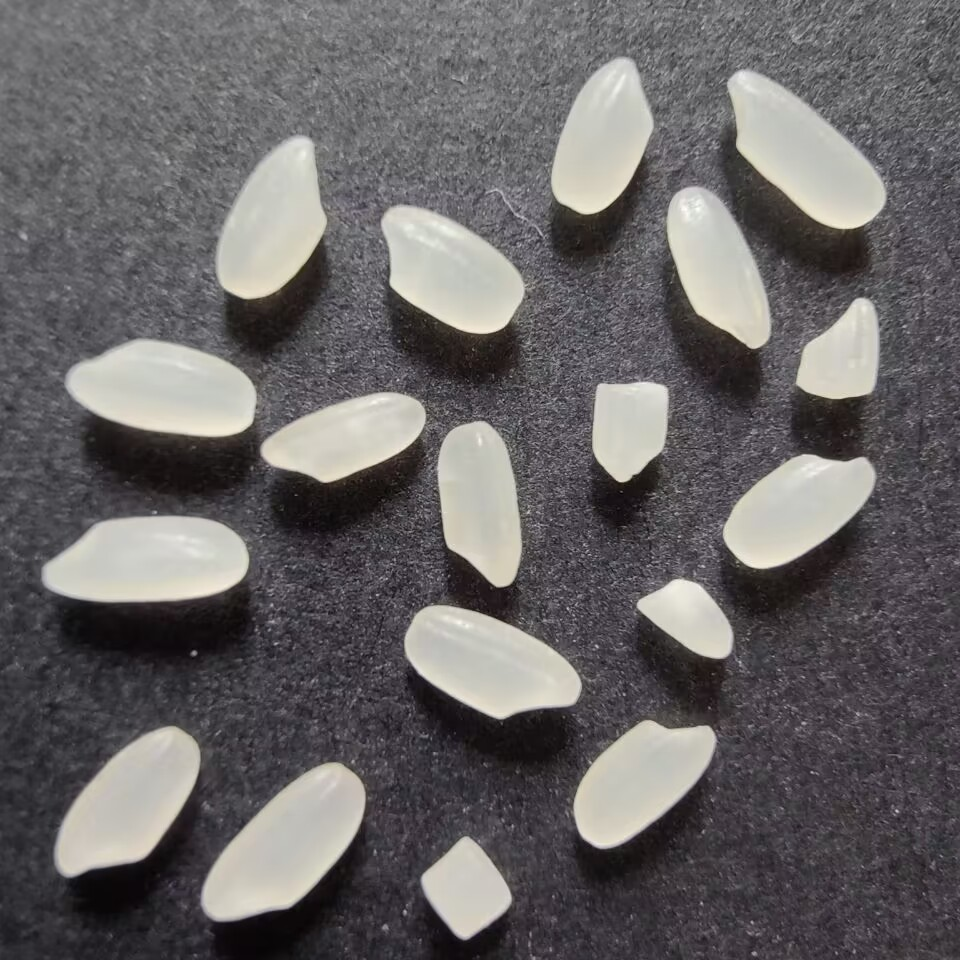broken: (412, 833, 517, 941), (786, 293, 886, 404), (587, 370, 674, 489), (630, 574, 739, 668)
rice: (198, 755, 372, 931), (720, 60, 890, 233), (44, 722, 205, 885), (206, 127, 336, 304), (371, 200, 535, 339), (57, 331, 262, 442), (400, 600, 584, 723), (32, 509, 254, 609), (566, 716, 720, 854), (659, 181, 777, 359), (718, 445, 879, 572), (544, 51, 659, 218), (257, 385, 431, 486), (433, 417, 527, 593)
